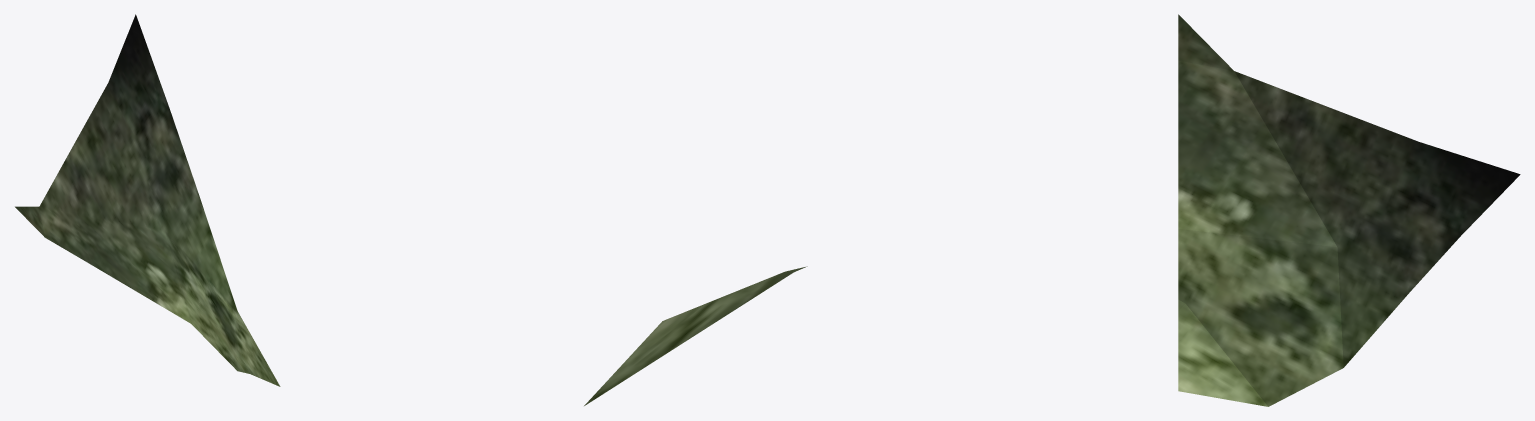
3 renders of one model, left to right at view 1: azimuth 30°, elevation 25°; view 2: azimuth 150°, elevation 25°; view 3: azimuth 270°, elevation 25°, orthographic. The views are drawn at different scales.
Size of the model in its own units: 4.9 by 4.36 by 5.25.
1 material, 1 textured.
